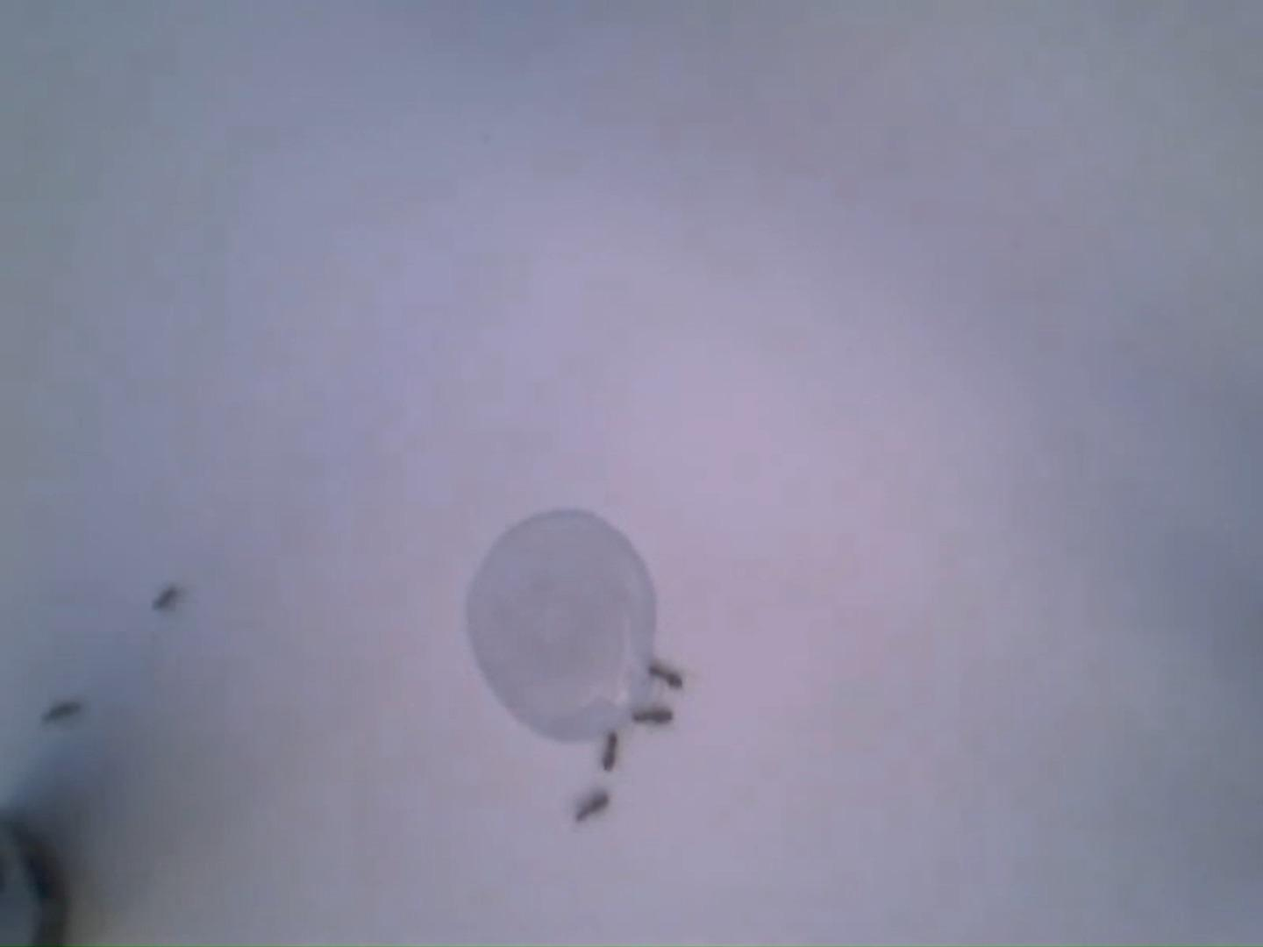Ant: (577, 791, 610, 823), (648, 661, 687, 688), (43, 697, 82, 723), (637, 703, 677, 725), (602, 731, 621, 773), (154, 583, 181, 611)
